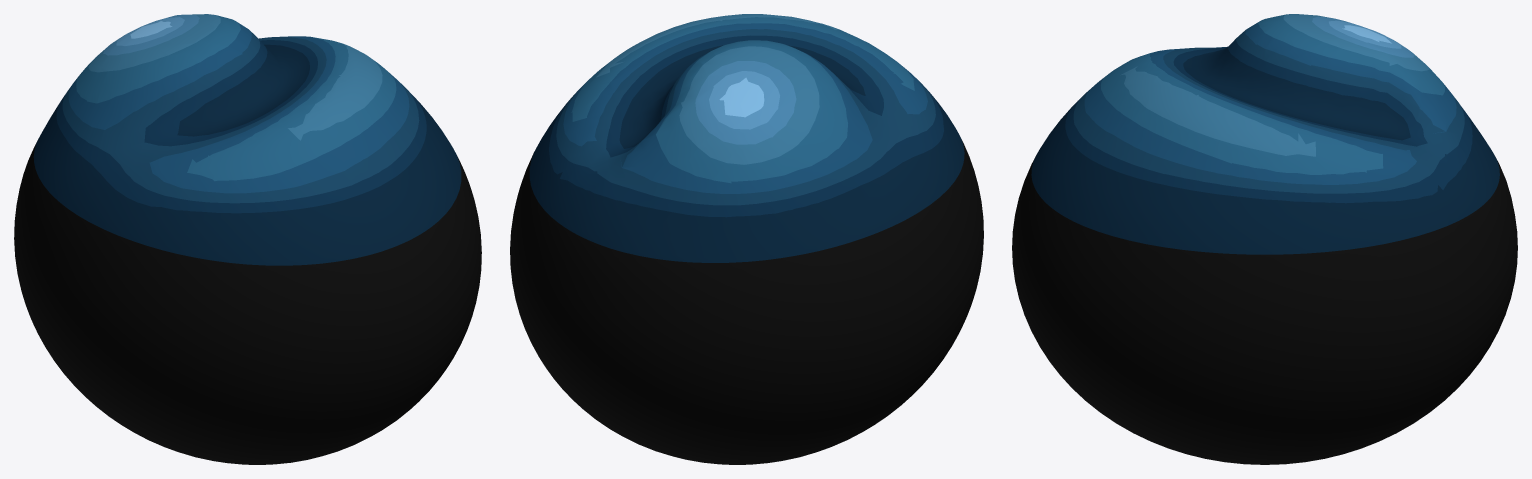
The model's file is gyges_bubble_l.glb.
The picture shows the model from 3 angles, left to right: view 1: azimuth 30°, elevation 25°; view 2: azimuth 150°, elevation 25°; view 3: azimuth 270°, elevation 25°; orthographic projection.
Parts seen in each view (by area): view 1: gyges_bubble_l; view 2: gyges_bubble_l; view 3: gyges_bubble_l.
Boxes of the visible parts, box(x1,y1,x2,y2) form: gyges_bubble_l: box(14, 14, 481, 464); gyges_bubble_l: box(510, 14, 983, 464); gyges_bubble_l: box(1012, 14, 1517, 464).
Size of the model in its own units: 19 by 18.53 by 21.
